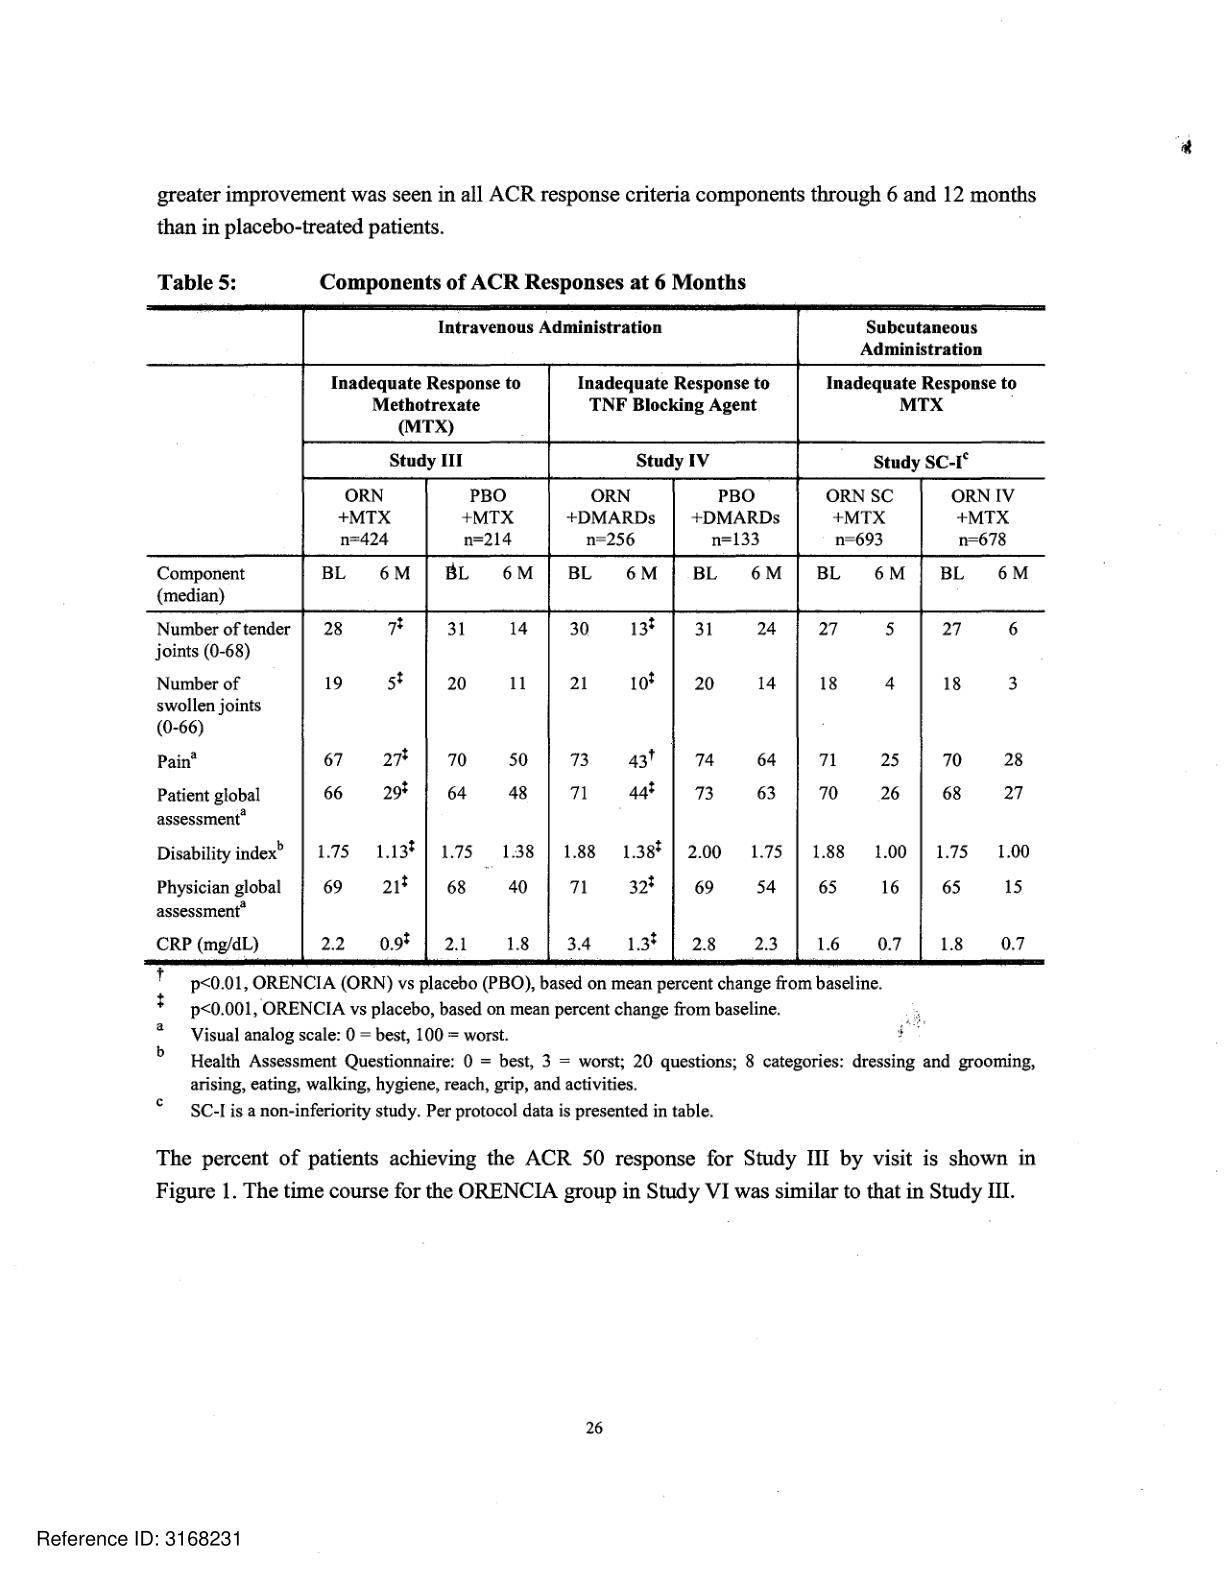partial_lined_merged_cells: (145, 303, 1048, 966)
